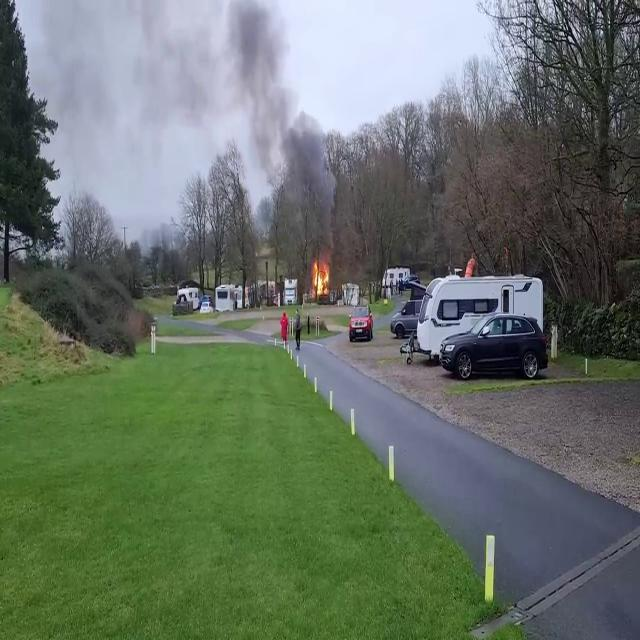Fire: (310, 255, 332, 298)
Smoke: (90, 0, 330, 169), (226, 1, 338, 256)
